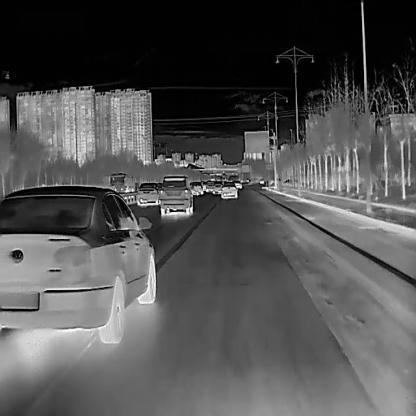car: (0, 184, 155, 342), (158, 174, 192, 214), (107, 171, 137, 191), (136, 181, 160, 206), (221, 180, 237, 198), (188, 180, 203, 194), (203, 180, 214, 192), (213, 181, 223, 193)
